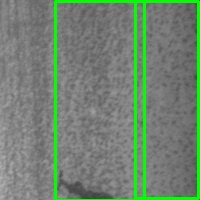pitted_surface: (55, 1, 144, 200), (135, 1, 198, 198)
